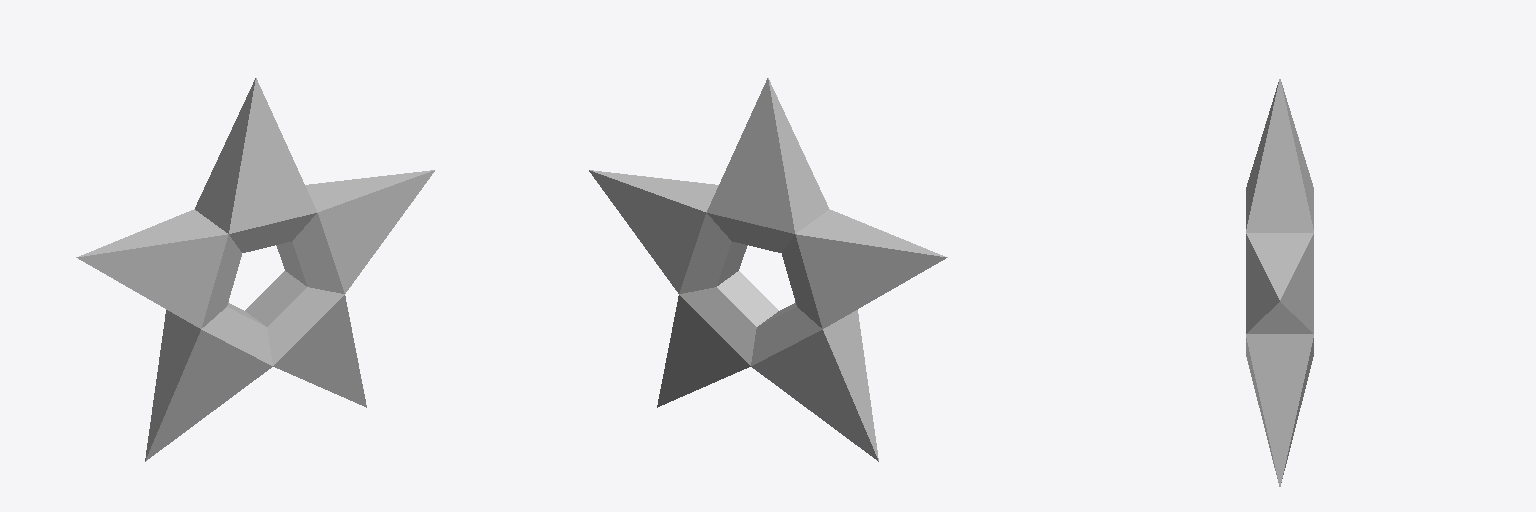
Rendered from star.obj.
3 renders of one model, left to right at view 1: azimuth 30°, elevation 25°; view 2: azimuth 150°, elevation 25°; view 3: azimuth 270°, elevation 25°, orthographic.
Visible parts, largest first — view 1: body; view 2: body; view 3: body.
Boxes of the visible parts, box(x1,y1,x2,y2) form: body: box(76, 78, 434, 461); body: box(589, 78, 947, 461); body: box(1246, 79, 1313, 486).
Size of the model in its own units: 0.6657 by 0.6332 by 0.11.